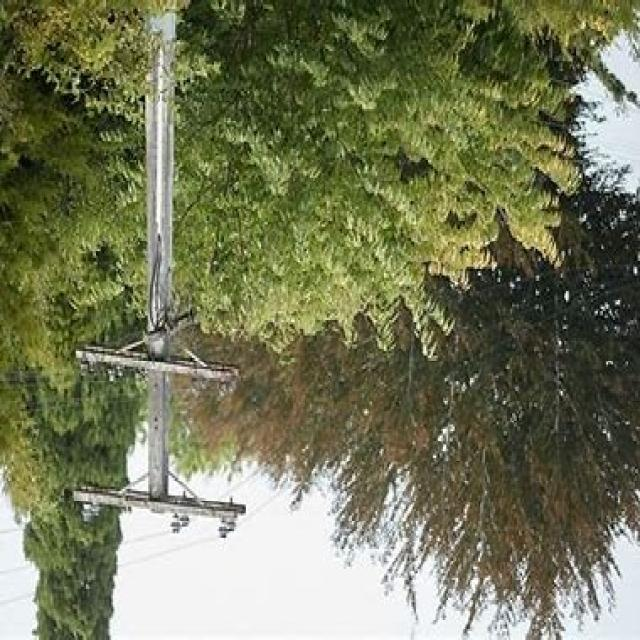utility poles: (86, 0, 252, 553)
